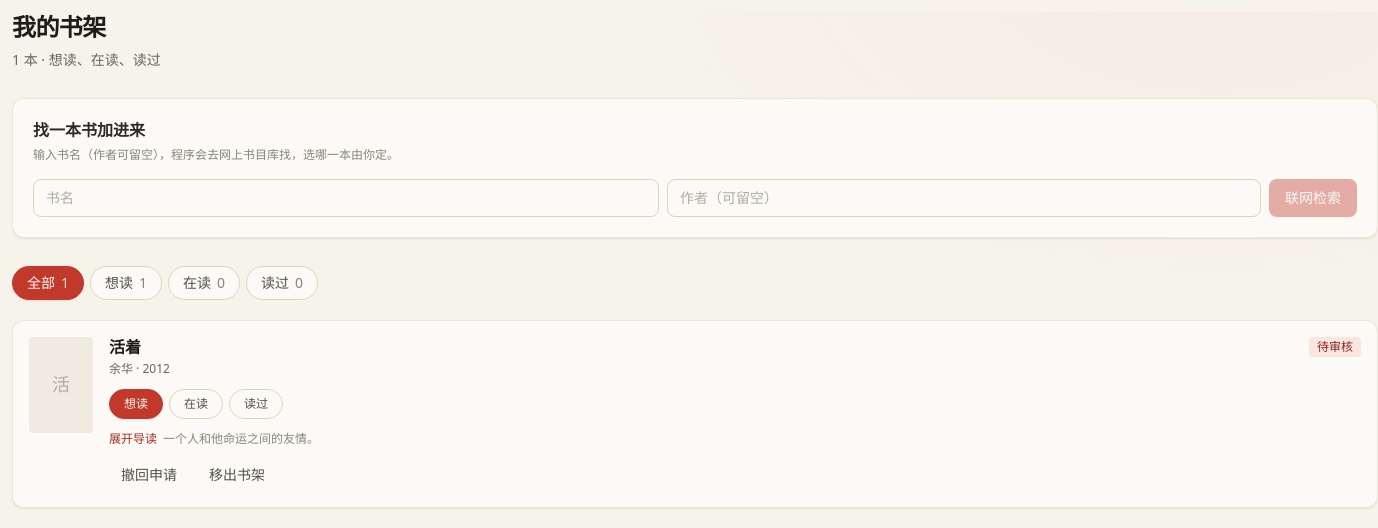
it: 书架上的操作 › 待审核时可以撤回
Check: the heading "活着" is shown, box [109,337,141,359]
Click the button "撤回申请": (149, 475) [109,459,189,491]
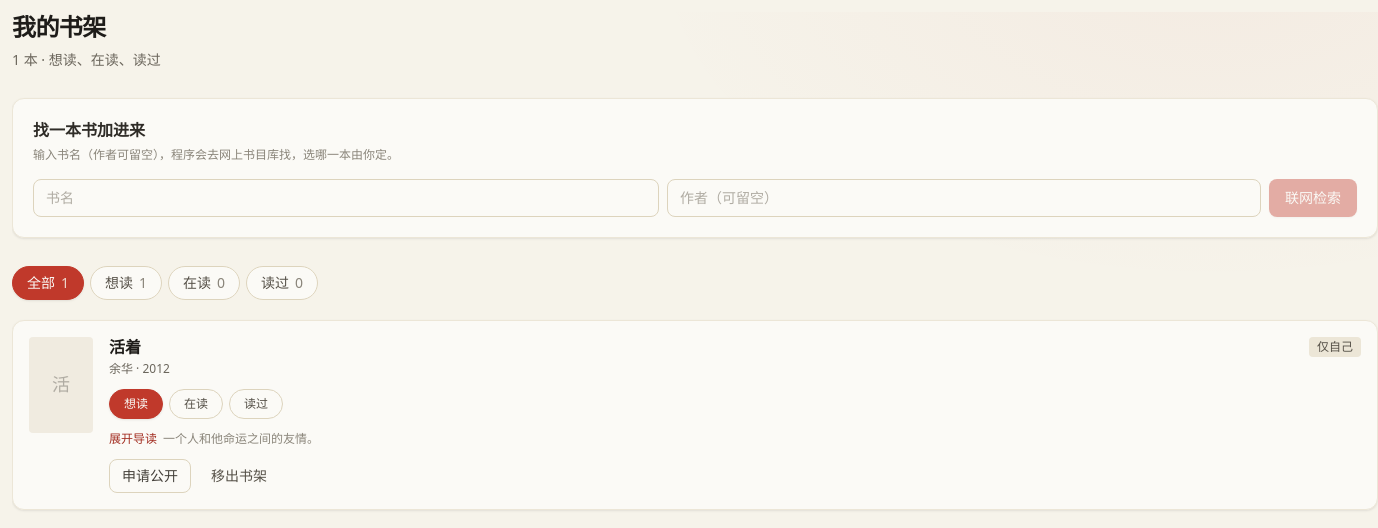
Check: the button "申请公开" is shown, box [109,459,191,493]
